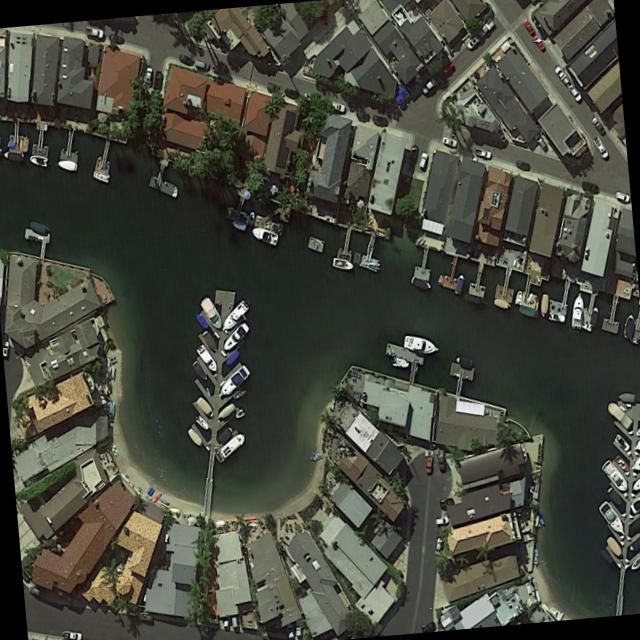large-vehicle: (475, 15, 495, 39)
ship: (214, 362, 249, 401), (596, 498, 627, 538), (212, 429, 245, 463), (217, 297, 248, 333), (219, 318, 249, 352), (599, 457, 628, 492), (198, 294, 223, 330), (603, 398, 632, 428), (401, 332, 437, 355), (194, 342, 218, 372), (247, 222, 277, 245), (570, 291, 585, 328), (604, 533, 623, 558), (610, 428, 629, 453), (195, 394, 214, 417), (189, 358, 208, 381), (200, 327, 217, 352), (215, 400, 234, 420), (185, 425, 202, 447), (605, 484, 621, 506), (621, 311, 634, 338), (330, 256, 353, 271), (612, 452, 629, 472), (54, 156, 76, 171), (214, 423, 231, 442), (222, 347, 239, 366), (516, 303, 537, 317), (409, 275, 430, 289), (597, 545, 613, 563), (27, 151, 46, 166), (28, 219, 47, 234), (627, 494, 640, 514), (626, 534, 640, 552), (194, 311, 208, 329), (538, 292, 548, 317), (388, 356, 407, 369), (91, 168, 108, 182), (587, 305, 598, 326), (453, 271, 463, 294), (2, 149, 22, 160), (616, 390, 634, 402), (628, 475, 640, 493), (194, 414, 208, 429), (547, 310, 564, 322), (628, 554, 640, 571), (454, 354, 471, 366), (229, 218, 245, 230), (492, 296, 507, 308), (233, 407, 245, 418), (513, 288, 521, 304), (246, 209, 254, 224), (151, 491, 161, 501), (170, 184, 176, 197), (241, 514, 255, 519), (310, 451, 319, 458), (309, 455, 319, 460)
small-vehicle: (552, 62, 571, 86), (591, 134, 608, 158), (419, 74, 438, 94), (565, 80, 581, 101), (589, 114, 605, 133), (82, 24, 102, 38), (175, 50, 192, 66), (60, 628, 82, 640), (578, 178, 598, 191), (464, 32, 479, 49), (530, 32, 544, 50), (521, 16, 534, 35), (151, 69, 162, 91), (281, 85, 298, 99), (473, 145, 490, 158), (407, 143, 418, 163), (142, 64, 152, 86), (107, 30, 122, 44), (283, 620, 294, 639), (263, 79, 279, 92), (513, 157, 529, 170), (613, 189, 629, 202), (432, 535, 442, 555), (416, 150, 427, 168), (329, 99, 344, 112), (433, 514, 449, 526), (423, 453, 432, 472), (441, 135, 455, 147), (371, 113, 386, 124), (193, 58, 208, 69), (438, 495, 452, 506), (293, 620, 301, 637), (136, 611, 151, 620), (437, 446, 443, 467)
